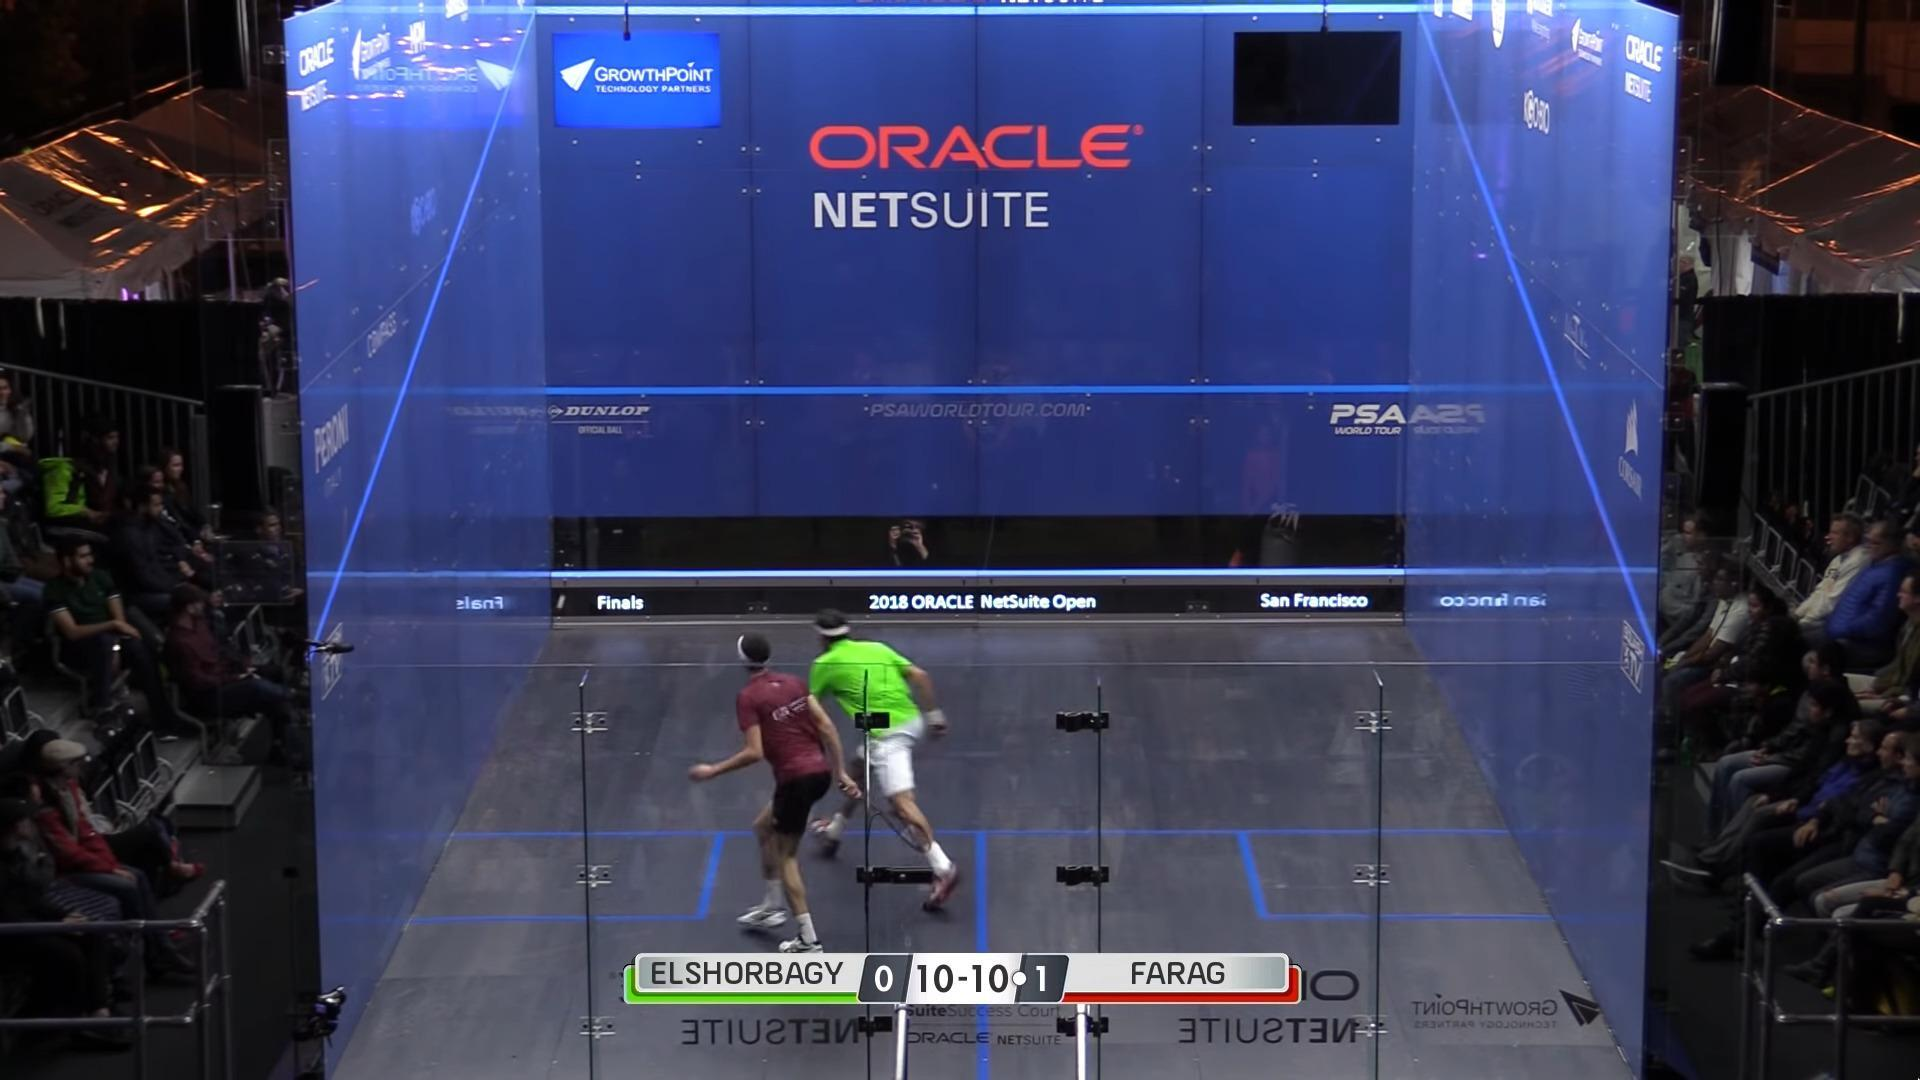Squash-Ball: (553, 589, 568, 611)
